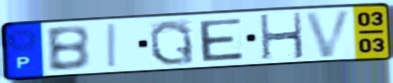B: (43, 24, 93, 73)
E: (196, 16, 246, 63)
H: (257, 11, 307, 62)
I: (106, 22, 120, 70)
Q: (147, 18, 197, 67)
V: (302, 8, 356, 60)
